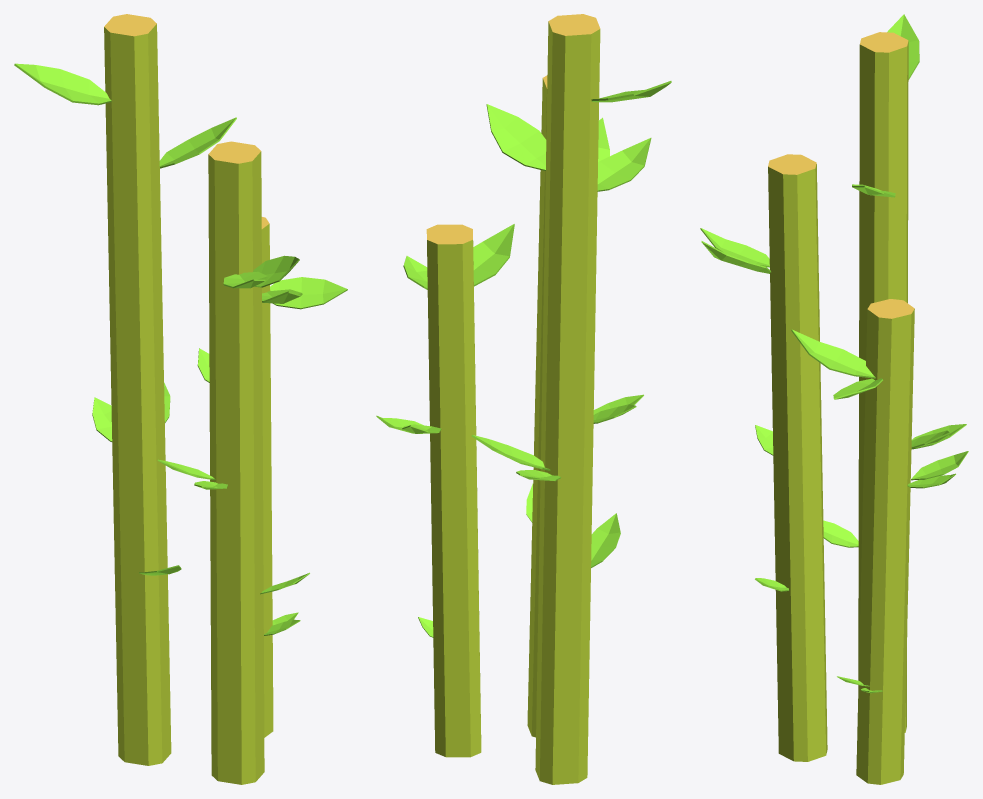
File: bamboo.glb
3 renders of one model, left to right at view 1: azimuth 30°, elevation 25°; view 2: azimuth 150°, elevation 25°; view 3: azimuth 270°, elevation 25°, orthographic. The views are drawn at different scales.
Parts seen in each view (by area): view 1: bamboo.001, bamboo.002, bamboo, leaf.003, leaf.007, leaf.006, bamboo.003, bamboo.004, leaf.010, leaf.004, leaf.011; view 2: bamboo.001, bamboo, bamboo.002, leaf.006, leaf.011, leaf.002, leaf.005, bamboo.004, bamboo.005, leaf.009, leaf.003, leaf.007; view 3: bamboo.002, bamboo, bamboo.001, leaf.002, leaf.011, leaf.003, bamboo.003, bamboo.004, leaf.001, bamboo.005, leaf.005, leaf.010 (+1 smaller).
Boxes of the visible parts, x1,y1,x2,y2 form: bamboo.001: (104,24,171,765); bamboo.002: (208,151,264,784); bamboo: (261,224,273,737); leaf.003: (14,63,111,105); leaf.007: (270,277,347,309); leaf.006: (159,117,236,168); bamboo.003: (208,141,260,163); bamboo.004: (104,14,156,36); leaf.010: (253,255,299,287); leaf.004: (92,397,112,441); leaf.011: (223,271,268,288); bamboo.001: (535,21,600,784); bamboo: (427,240,481,757); bamboo.002: (527,78,547,737); leaf.006: (486,104,546,170); leaf.011: (597,138,651,191); leaf.002: (473,224,514,286); leaf.005: (591,513,620,567); bamboo.004: (548,14,600,35); bamboo.005: (426,224,472,244); leaf.009: (471,435,550,470); leaf.003: (591,81,671,102); leaf.007: (403,256,427,289); bamboo.002: (768,164,827,761); bamboo: (856,309,914,784); bamboo.001: (858,41,908,732); leaf.002: (791,329,875,378); leaf.011: (700,228,769,267); leaf.003: (887,14,919,79); bamboo.003: (768,154,816,174); bamboo.004: (860,32,908,52); leaf.001: (911,451,968,480); bamboo.005: (867,299,914,318); leaf.005: (823,520,858,547); leaf.010: (701,241,770,273).
Size of the model in its own units: 0.7656 by 1.81 by 0.6474.
